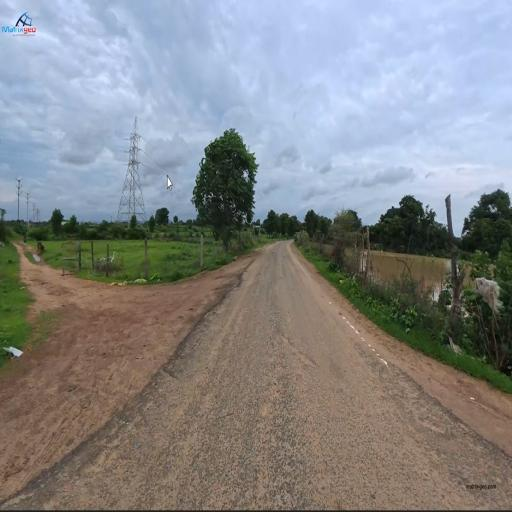ravelling: (193, 362, 375, 475)
